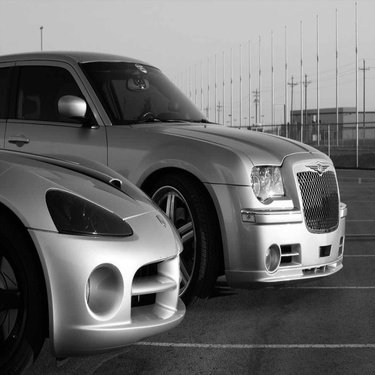car: (1, 46, 352, 308), (1, 140, 195, 371)
